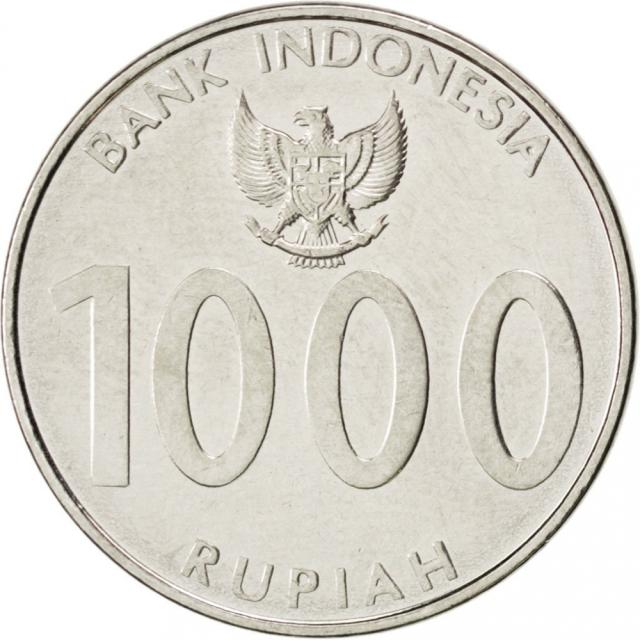1000-angklung: (5, 1, 640, 640)
